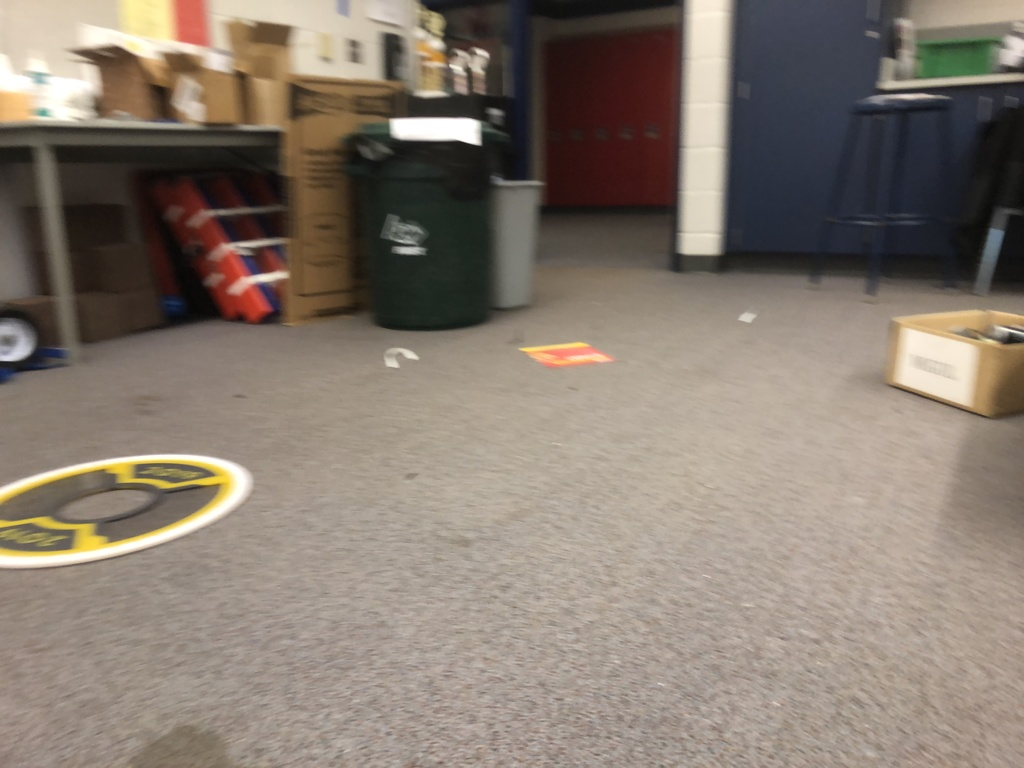hatch_panel: (1, 449, 262, 577)
